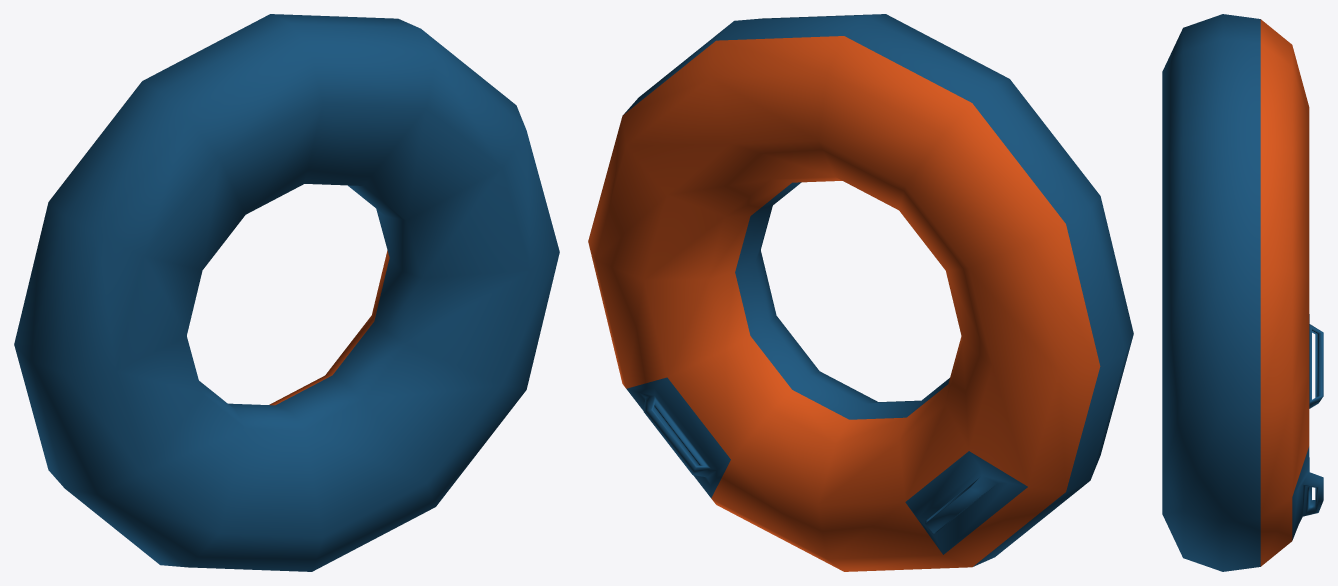
File: innerTube.fbx
3 views of the same model, side by side, from view 1: azimuth 30°, elevation 25°; view 2: azimuth 150°, elevation 25°; view 3: azimuth 270°, elevation 25° (orthographic). The views are drawn at different scales.
Visible parts, largest first — view 1: innerTube; view 2: innerTube; view 3: innerTube.
Boxes of the visible parts, left/top/right/bottom form: innerTube: left=14, top=14, right=559, bottom=571; innerTube: left=588, top=14, right=1133, bottom=571; innerTube: left=1162, top=14, right=1323, bottom=571.
Bounding box in the file's own units: 212 × 212 × 61.03.
Materials: 1 (1 with a texture image).
